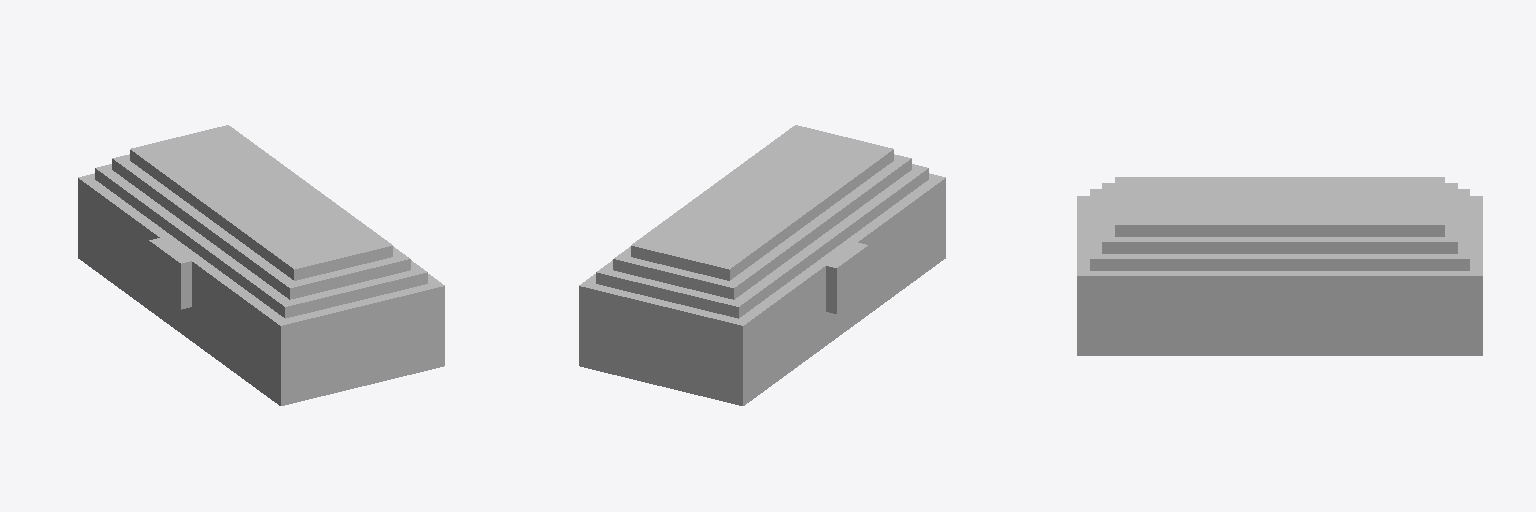
The model's file is Cofre cerrado.obj.
3 renders of one model, left to right at view 1: azimuth 30°, elevation 25°; view 2: azimuth 150°, elevation 25°; view 3: azimuth 270°, elevation 25°, orthographic.
Visible parts, largest first — view 1: object 1; view 2: object 1; view 3: object 1.
Part boxes in pixels (x1,y1,x2,y2): object 1: (78,125,444,405); object 1: (579,125,945,405); object 1: (1077,177,1482,355).
Bounding box in the file's own units: 1.6 × 1 × 3.2.